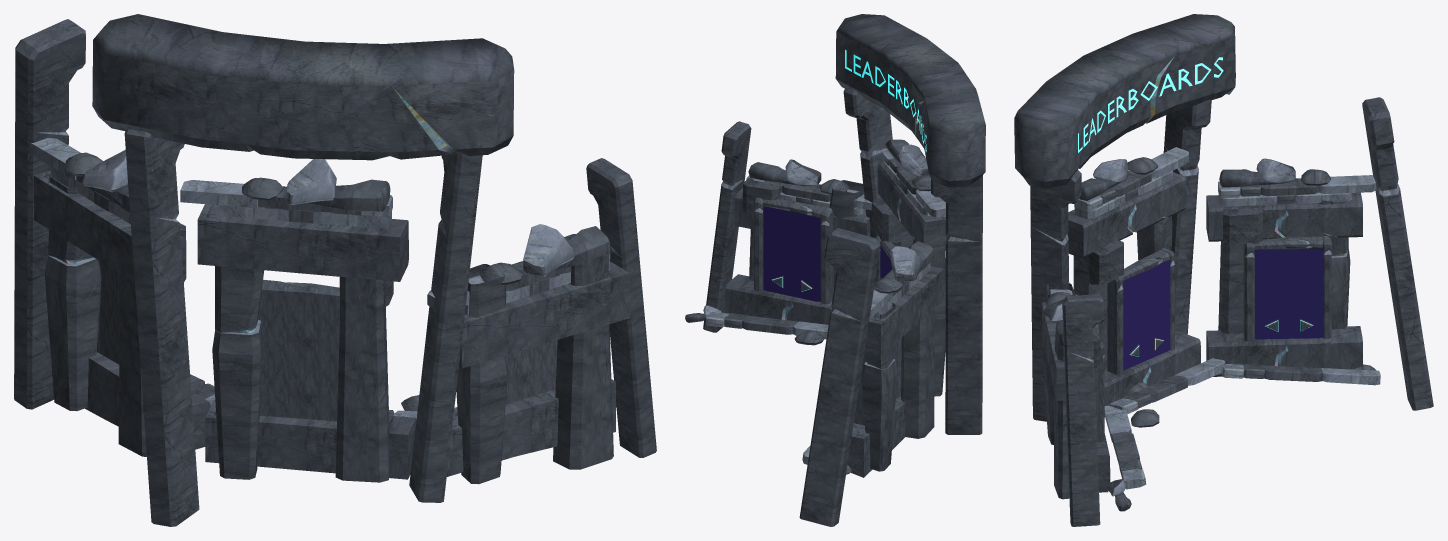
Rendered from s0_Leaderboards_01.glb.
The picture shows the model from 3 angles, left to right: view 1: azimuth 30°, elevation 25°; view 2: azimuth 150°, elevation 25°; view 3: azimuth 270°, elevation 25°; orthographic projection. The views are drawn at different scales.
Parts seen in each view (by area): view 1: node_Leaderboards; view 2: node_Leaderboards, node_Screen_002, node_Text.001; view 3: node_Leaderboards, node_Screen_001, node_Screen, node_Text.001.
Part boxes in pixels (bbox=[...]): node_Leaderboards: bbox=[14, 14, 656, 526]; node_Leaderboards: bbox=[685, 14, 985, 526]; node_Screen_002: bbox=[763, 206, 821, 301]; node_Text.001: bbox=[845, 49, 926, 152]; node_Leaderboards: bbox=[1014, 14, 1433, 526]; node_Screen_001: bbox=[1255, 248, 1323, 339]; node_Screen: bbox=[1122, 260, 1170, 370]; node_Text.001: bbox=[1078, 57, 1223, 152].
Bounding box in the file's own units: 16.19 × 15.85 × 16.63.
5 materials, 3 textured.
